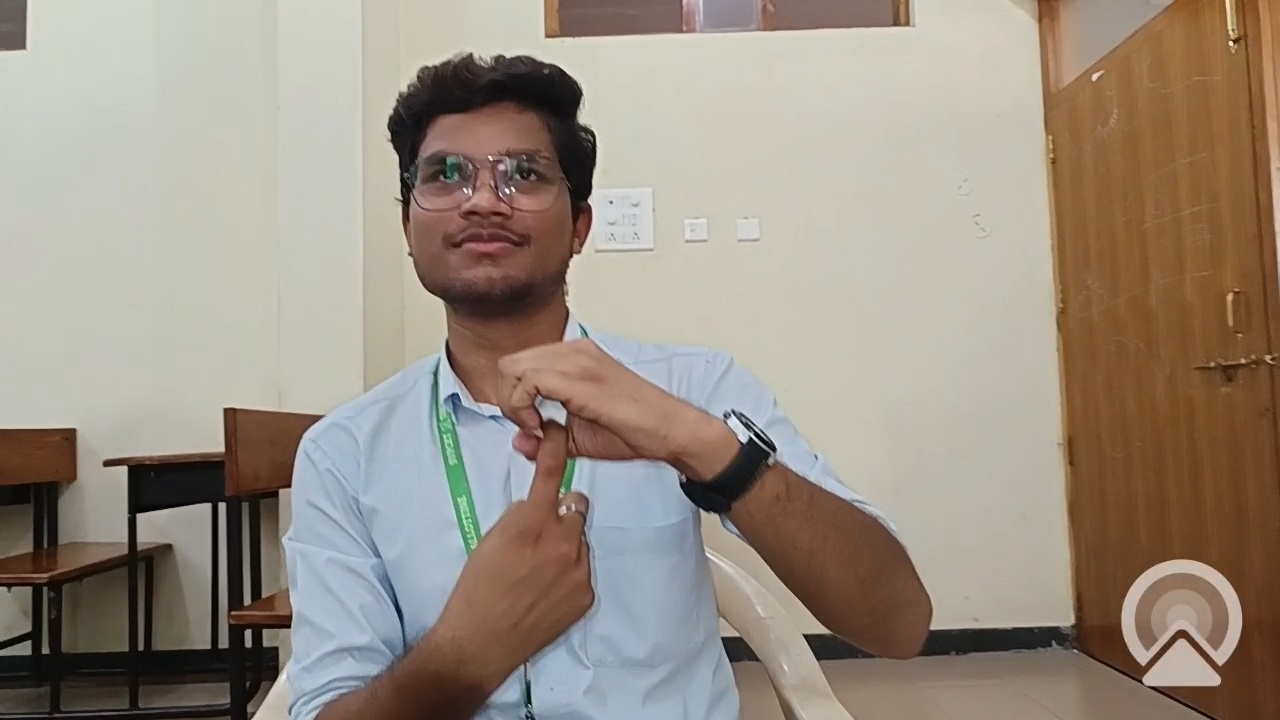Q: (416, 323, 754, 684)
